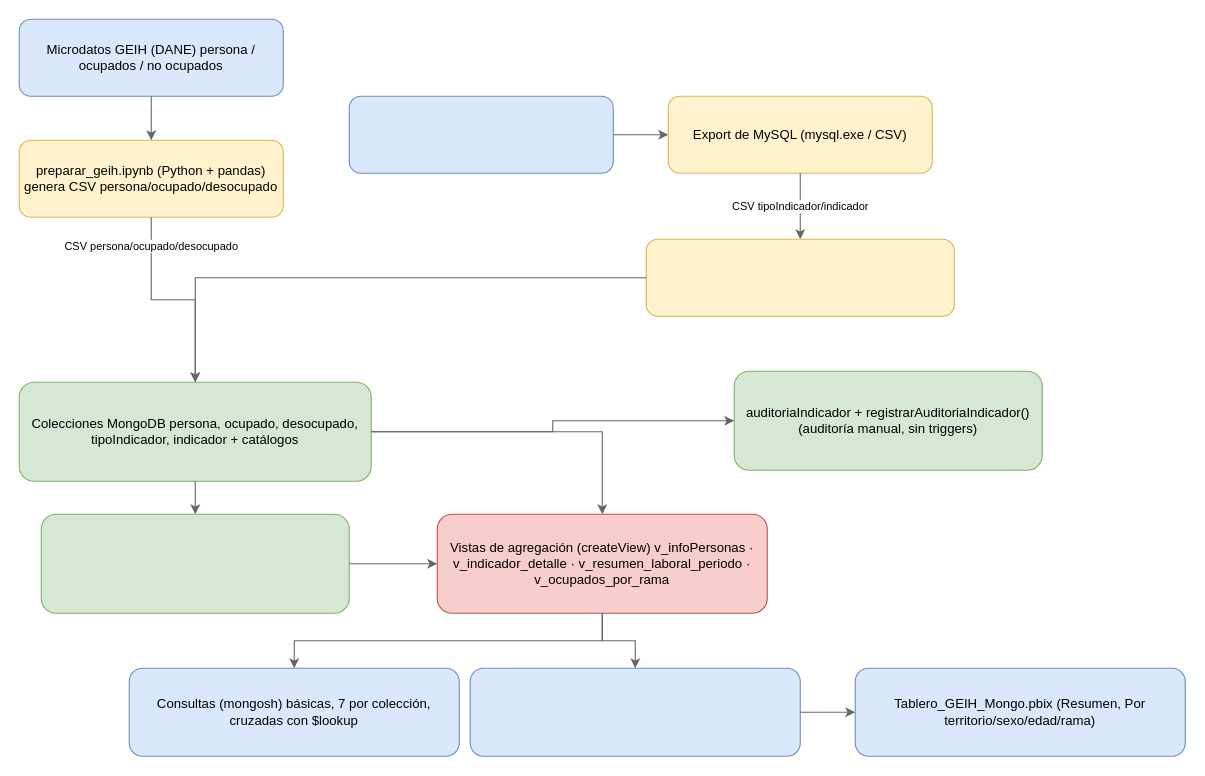
Some shapes in this 1205 by 776 pixel diagram are drawn without their labels. The box of each missing label's shape, as (x1, y1, x2, y2) in pixels:
Base relacional MySQL (tipoIndicador, indicador ya calculados): (348, 95, 613, 173)
Carga a MongoDB Compass (Import File) o cargar_mongo.py: (645, 238, 954, 316)
powerbi_mongodb_geih.py (Power BI: origen de datos Python): (469, 667, 800, 756)
Validadores $jsonSchema (tipos y restricciones, equivalentes a las de SQL): (40, 513, 349, 613)
